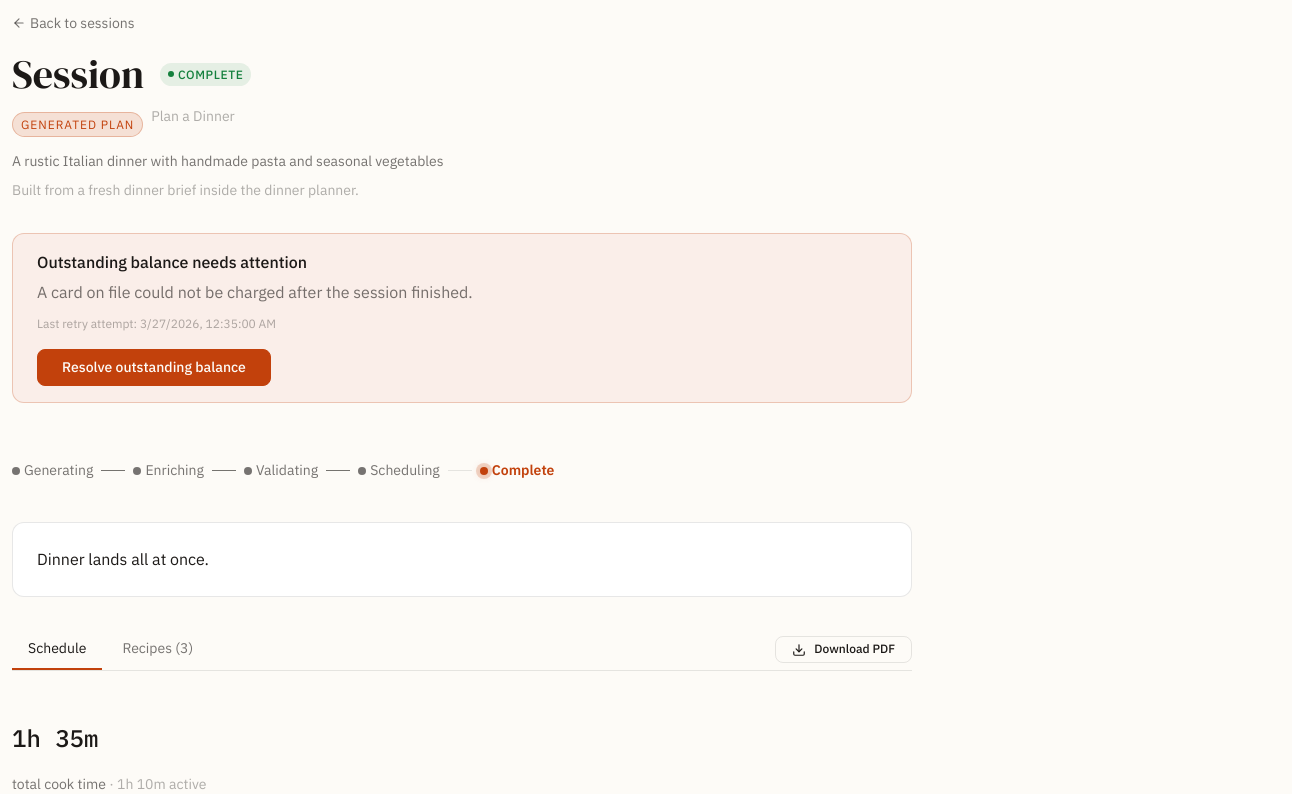
Scenario: session presentation › renders outstanding-balance recovery guidance on successful session detail pages without hiding results
Expected: the text "Outstanding balance needs attention" is shown, left=37, top=252, right=307, bottom=272
Expected: the text "A card on file could not be charged after the session finished." is shown, left=37, top=282, right=473, bottom=302
Click the button "Resolve outstanding balance" at (154, 368), box left=37, top=349, right=271, bottom=386
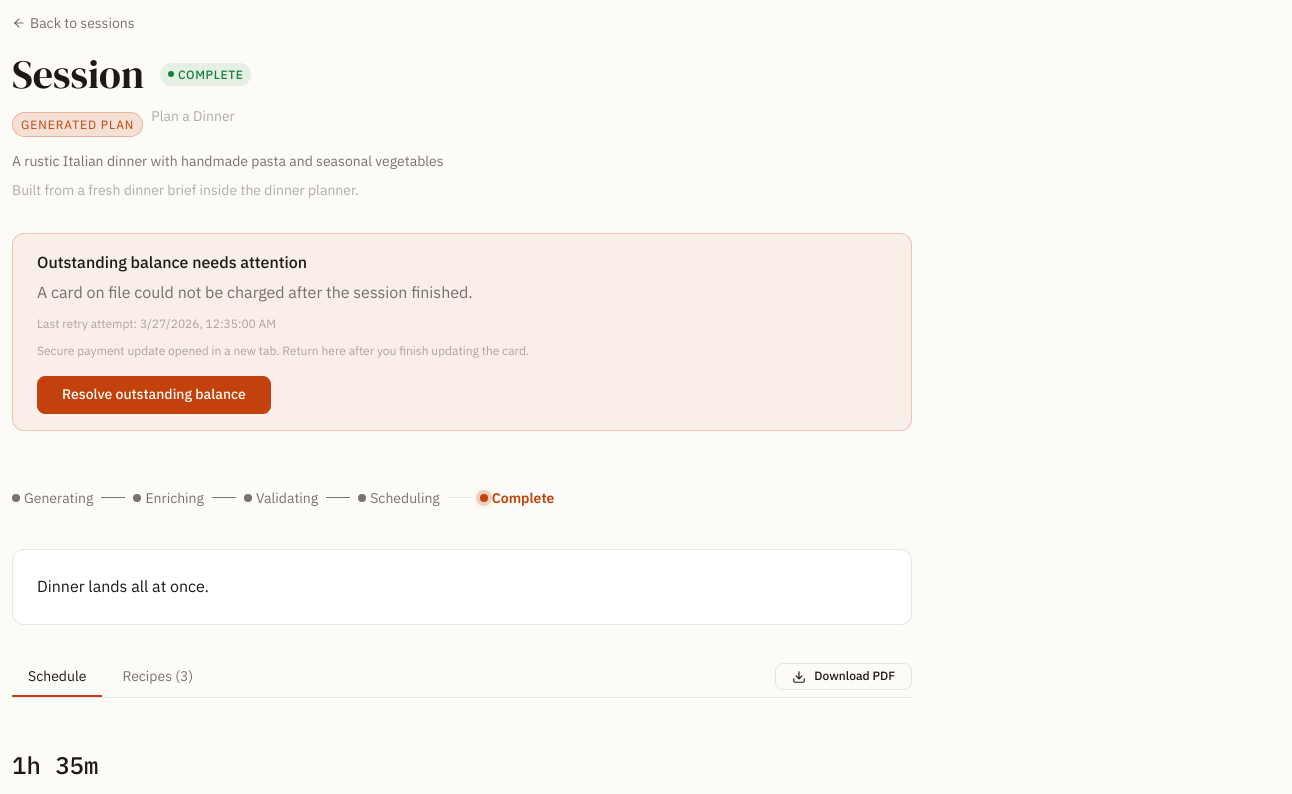
Expected: the text "Secure payment update opened in a new tab" is shown, left=37, top=343, right=529, bottom=358
